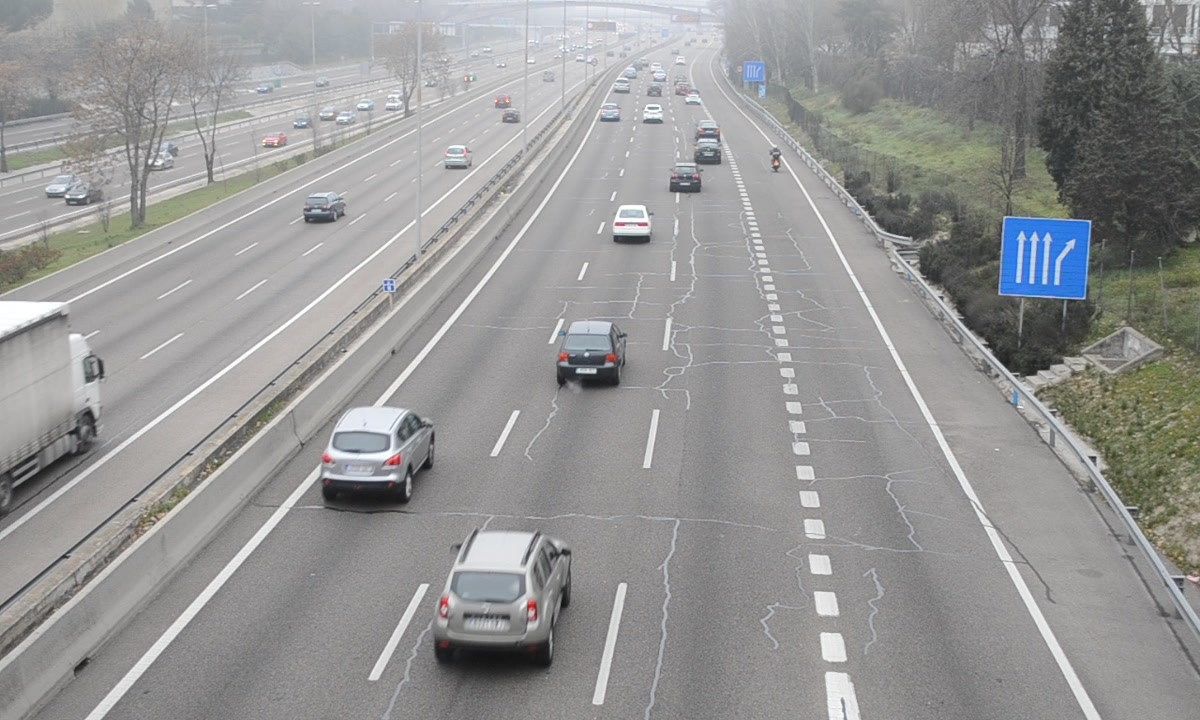car: (435, 530, 572, 651), (322, 408, 435, 484), (558, 321, 624, 381), (612, 203, 653, 242), (668, 162, 703, 193), (695, 139, 723, 163), (697, 120, 723, 141)
motorcycle: (770, 145, 783, 174)
